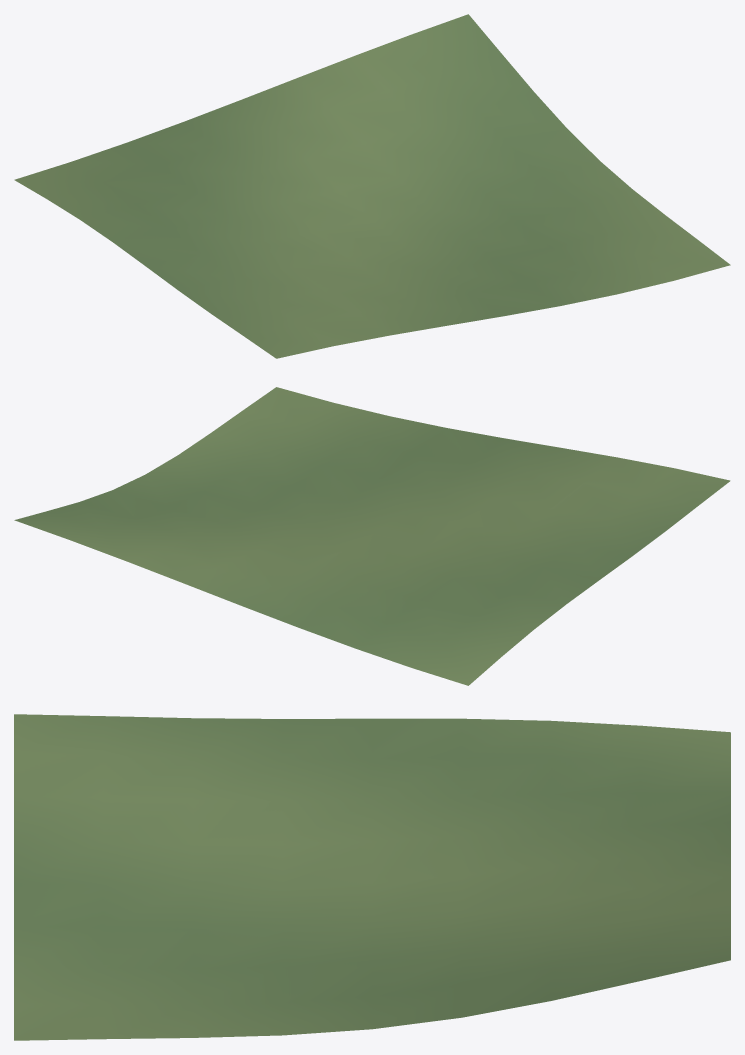
The model's file is Terrain-0-7-1.glb.
The picture shows the model from 3 angles, top to bottom: view 1: azimuth 30°, elevation 25°; view 2: azimuth 150°, elevation 25°; view 3: azimuth 270°, elevation 25°; orthographic projection. The views are drawn at different scales.
Parts seen in each view (by area): view 1: Terrain-0-7-1; view 2: Terrain-0-7-1; view 3: Terrain-0-7-1.
Boxes of the visible parts, left/top/right/bottom form: Terrain-0-7-1: left=14, top=14, right=730, bottom=358; Terrain-0-7-1: left=14, top=387, right=730, bottom=685; Terrain-0-7-1: left=14, top=714, right=730, bottom=1040.
Bounding box in the file's own units: 6 × 0.7761 × 6.
